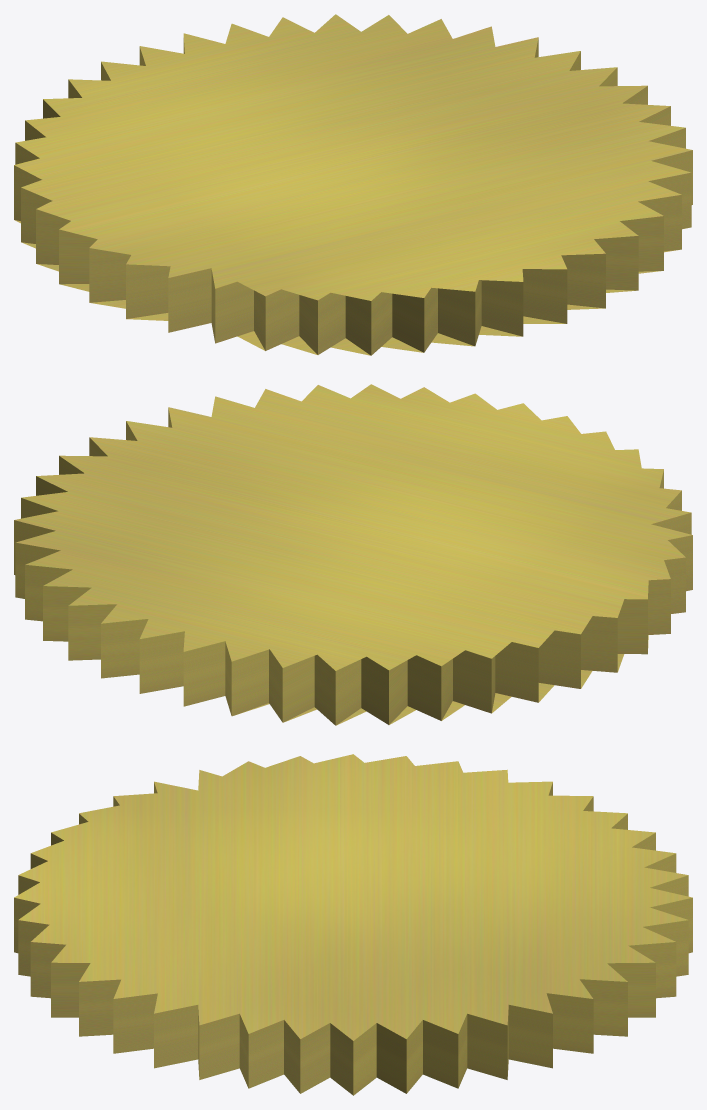
Rendered from ClockStraight040.fbx.
3 views of the same model, one above another, from view 1: azimuth 30°, elevation 25°; view 2: azimuth 150°, elevation 25°; view 3: azimuth 270°, elevation 25° (orthographic).
Parts seen in each view (by area): view 1: ClockStraight040; view 2: ClockStraight040; view 3: ClockStraight040.
Boxes of the visible parts, x1,y1,x2,y2 form: ClockStraight040: (14, 14, 692, 355); ClockStraight040: (14, 384, 692, 725); ClockStraight040: (14, 754, 692, 1095).
Size of the model in its own units: 221 by 19.69 by 221.
